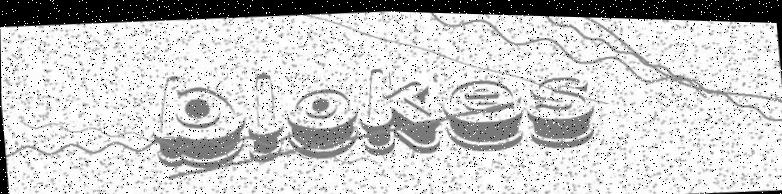b: (145, 62, 250, 173)
e: (440, 66, 528, 155)
k: (356, 56, 444, 158)
l: (241, 64, 288, 162)
o: (283, 77, 365, 166)
s: (522, 65, 600, 150)
